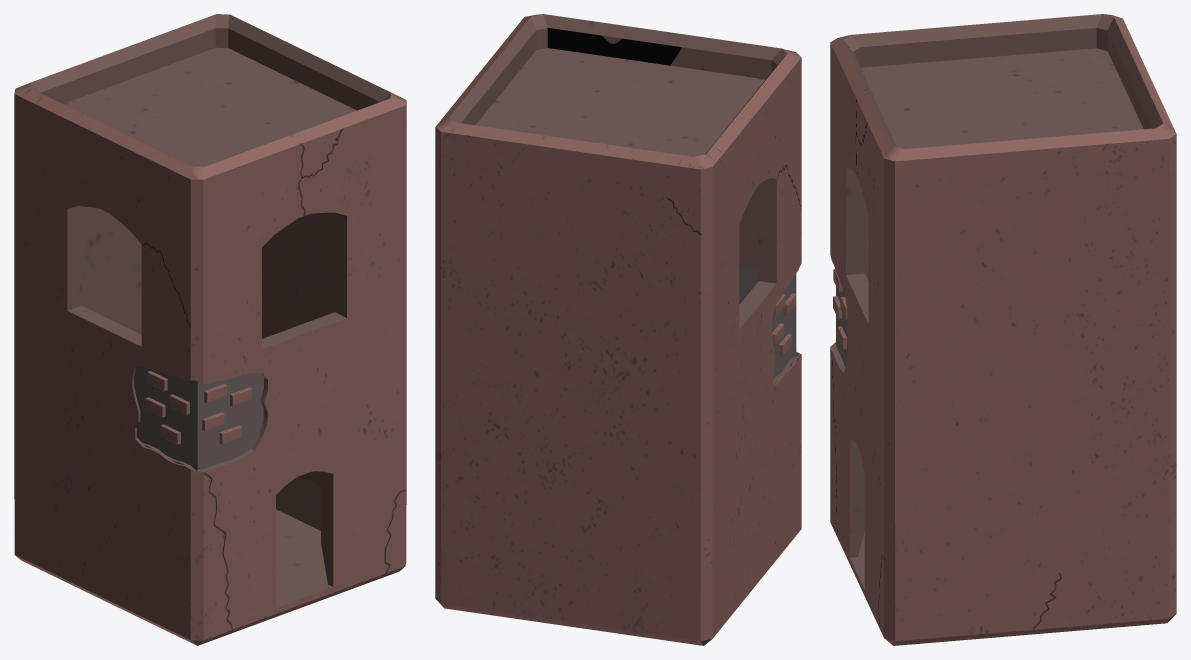
The model's file is TallBuilding.fbx.
The picture shows the model from 3 angles, left to right: view 1: azimuth 30°, elevation 25°; view 2: azimuth 150°, elevation 25°; view 3: azimuth 270°, elevation 25°; orthographic projection. The views are drawn at different scales.
Visible parts, largest first — view 1: pasted__pCube24; view 2: pasted__pCube24; view 3: pasted__pCube24.
Part boxes in pixels (x1,y1,x2,y2): pasted__pCube24: [14, 14, 406, 645]; pasted__pCube24: [435, 14, 801, 645]; pasted__pCube24: [830, 14, 1176, 645].
Size of the model in its own units: 2.95 by 4.66 by 2.95.
